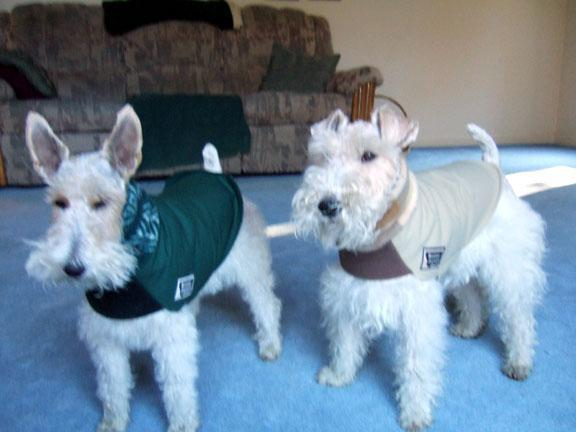wire-haired_fox_terrier: (287, 104, 551, 430), (16, 104, 279, 430)
